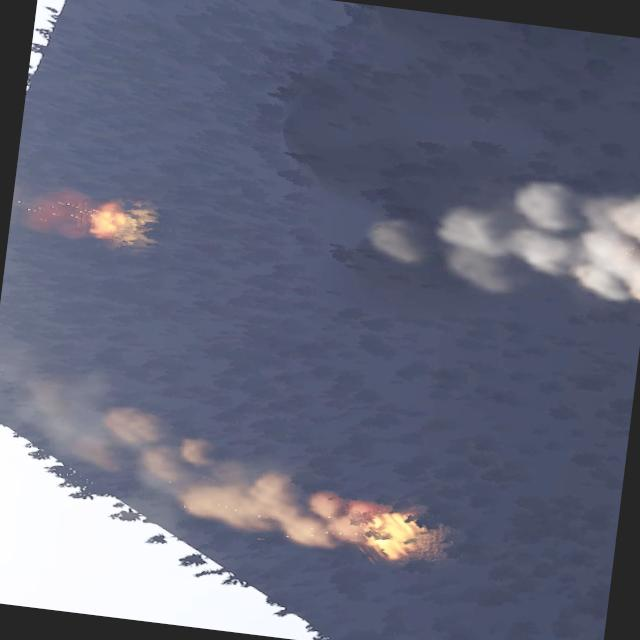fire: (364, 508, 422, 562), (86, 200, 148, 244)
smoke: (0, 356, 376, 555), (358, 153, 640, 309), (9, 175, 90, 240)
